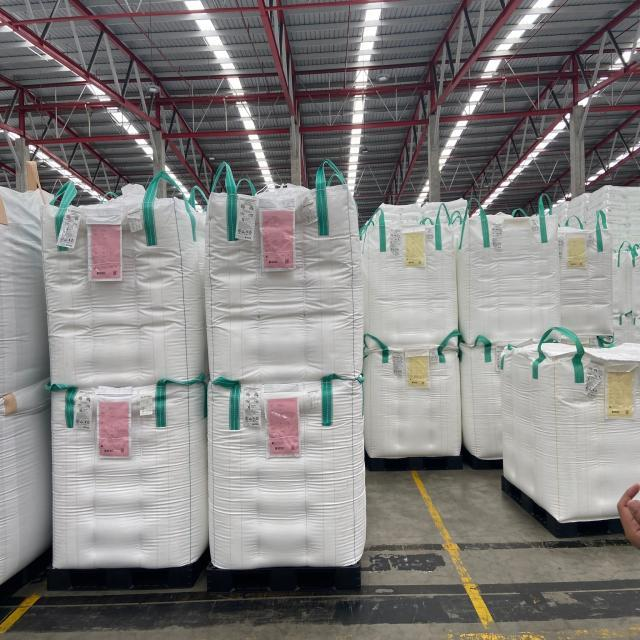gunny_bag: (204, 187, 364, 386), (40, 198, 206, 389), (206, 377, 367, 567), (50, 386, 203, 569)
